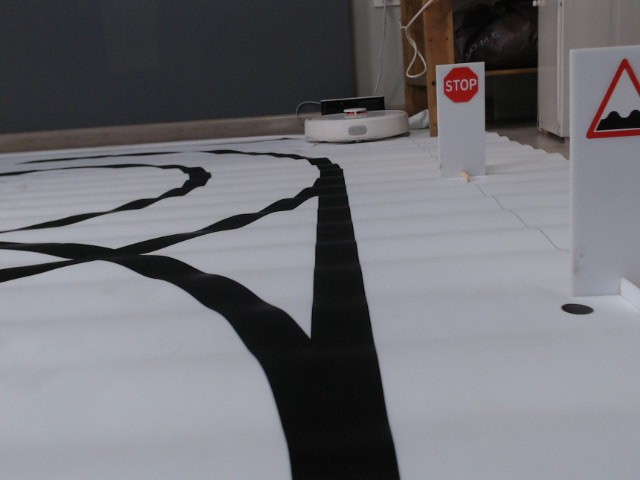Nerov: (584, 56, 640, 142)
